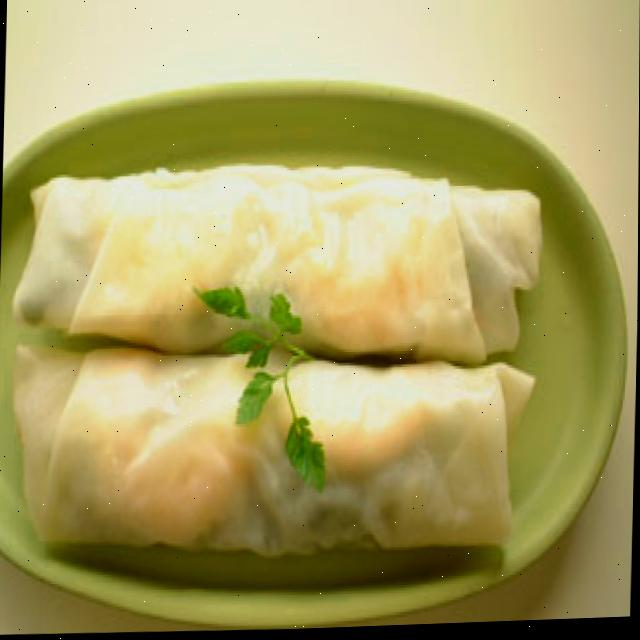鸡蛋料理: (0, 137, 545, 574)
